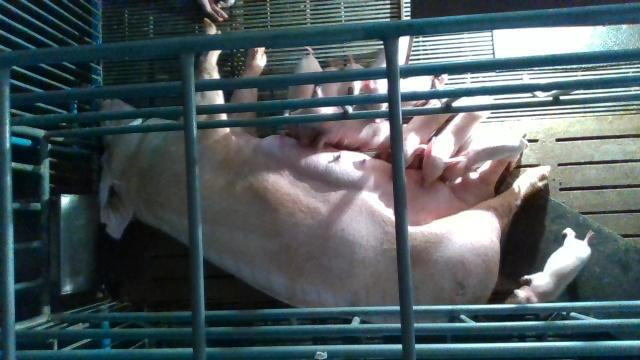piglet: (505, 227, 595, 303), (422, 95, 493, 187), (405, 74, 462, 168), (438, 134, 530, 184), (287, 46, 324, 137)
sow-sleep-lactate: (100, 19, 551, 324)
